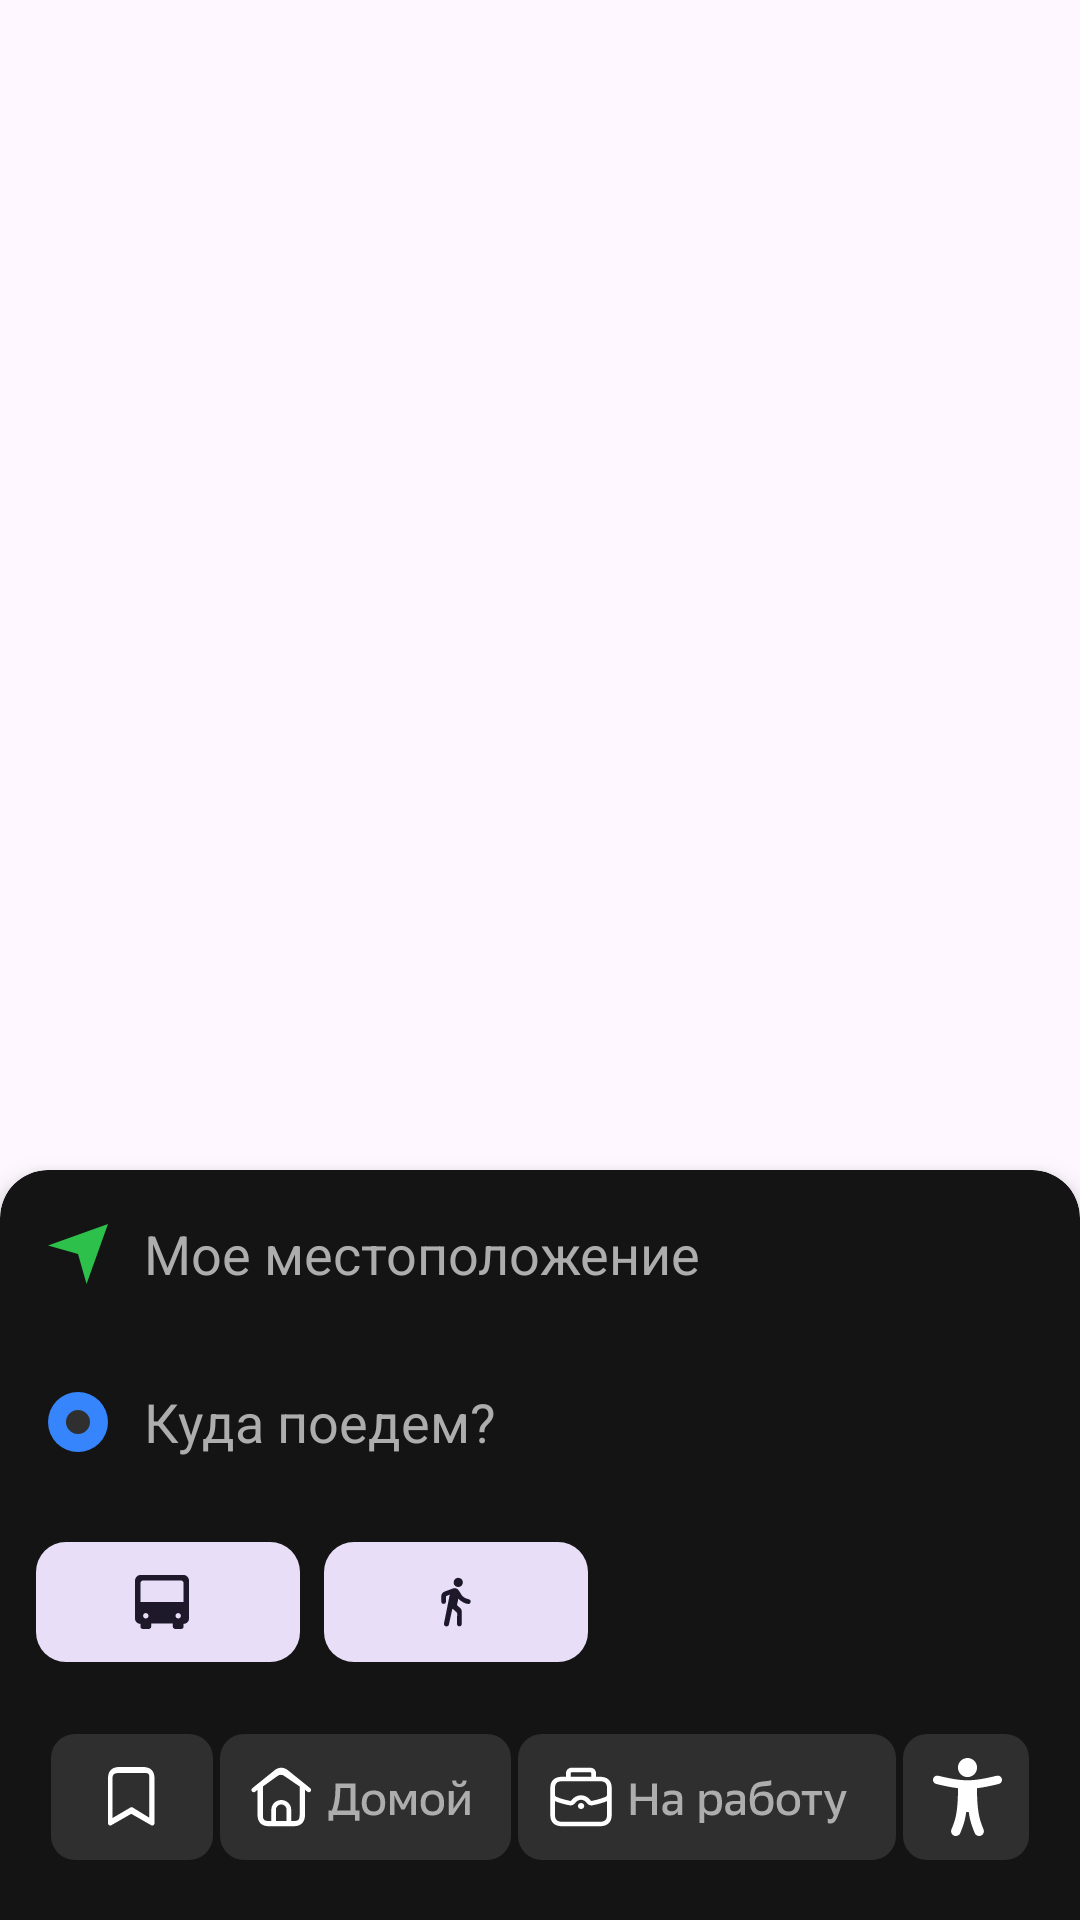

Where to tap for icons on this 1080*1920 app screen, as point (x, y):
start pin: point (78, 1254)
target pin: point (78, 1422)
